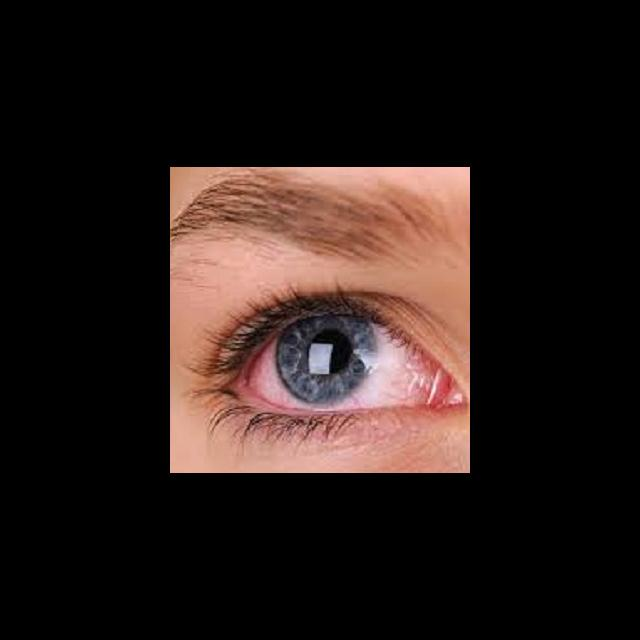eye: (249, 313, 427, 412)
iris: (276, 317, 376, 408)
